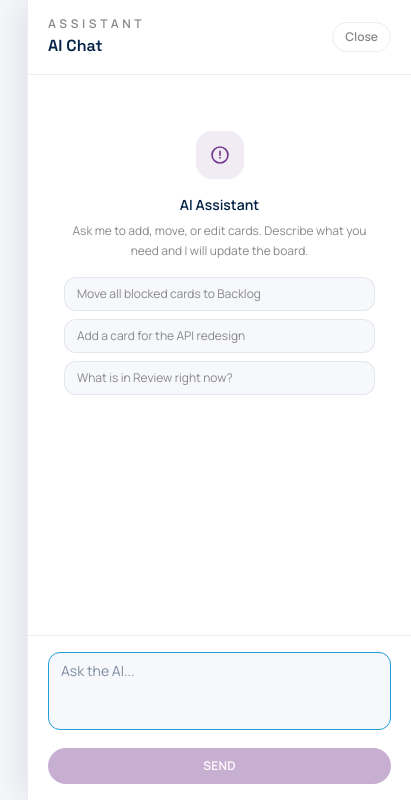
Scenario: AiSidebar › shows the user message in the chat
The image size is (411, 800).
In the text box named "Message": (220, 691) [48,652,391,730], type "What is my board?"
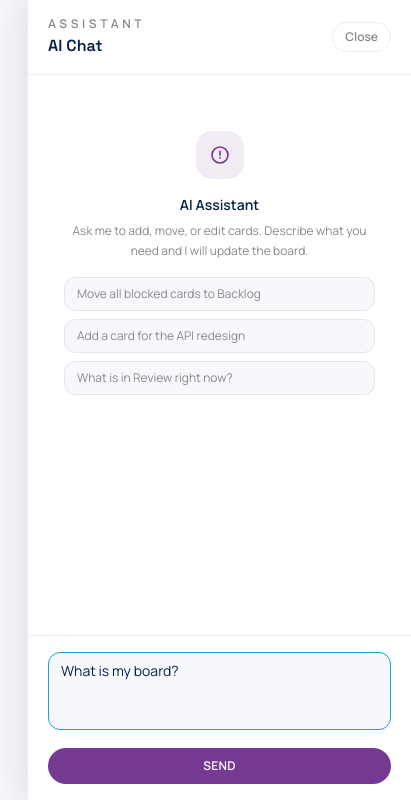
Click the button "Send": (220, 766) [48,748,391,784]
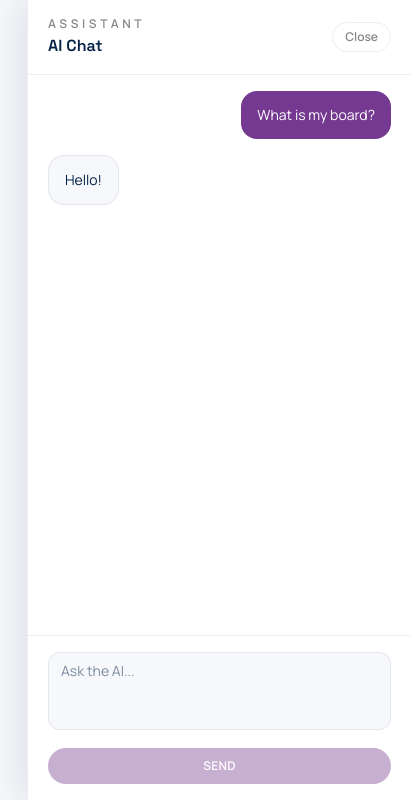
Now the text "What is my board?" is shown, box [241,91,391,139]
